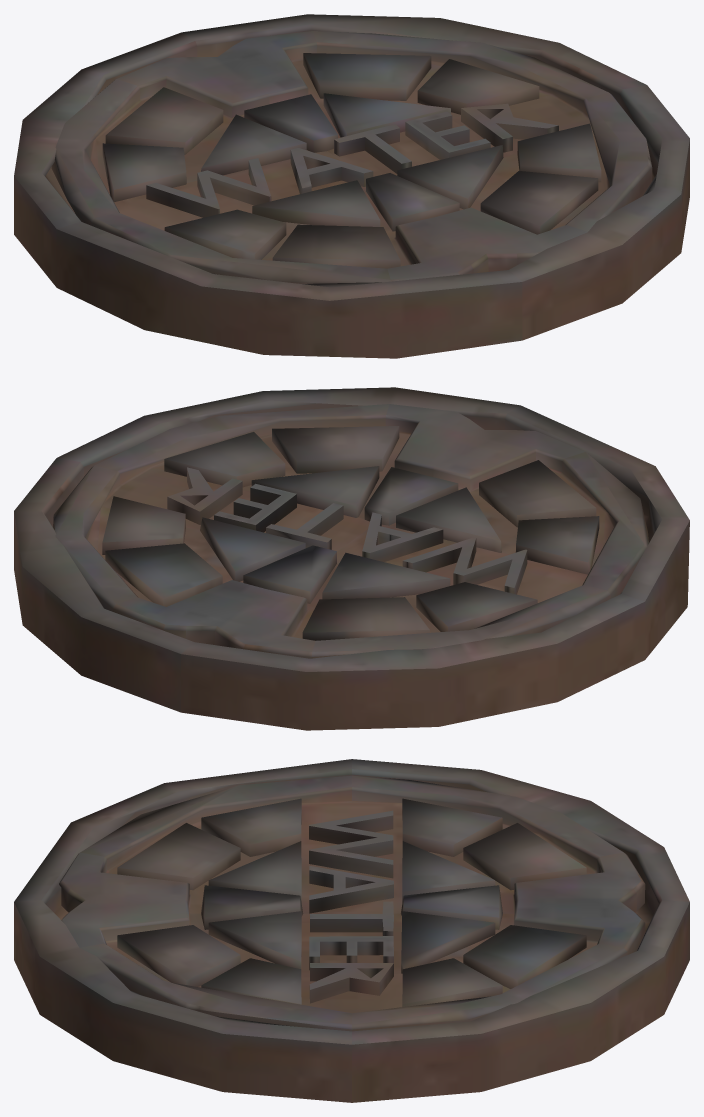
The model's file is manhole_lo.glb.
3 renders of one model, top to bottom at view 1: azimuth 30°, elevation 25°; view 2: azimuth 150°, elevation 25°; view 3: azimuth 270°, elevation 25°, orthographic.
Parts seen in each view (by area): view 1: water_manhole_cover, water_manhole_cover_frame; view 2: water_manhole_cover, water_manhole_cover_frame; view 3: water_manhole_cover, water_manhole_cover_frame.
Part boxes in pixels (x1,y1,x2,y2): water_manhole_cover: (51, 31, 652, 283); water_manhole_cover_frame: (14, 14, 689, 358); water_manhole_cover: (53, 404, 648, 658); water_manhole_cover_frame: (14, 387, 689, 730); water_manhole_cover: (59, 775, 645, 1031); water_manhole_cover_frame: (14, 759, 689, 1102).
Size of the model in its own units: 0.6908 by 0.0676 by 0.6908.
Materials: 1 (1 with a texture image).
